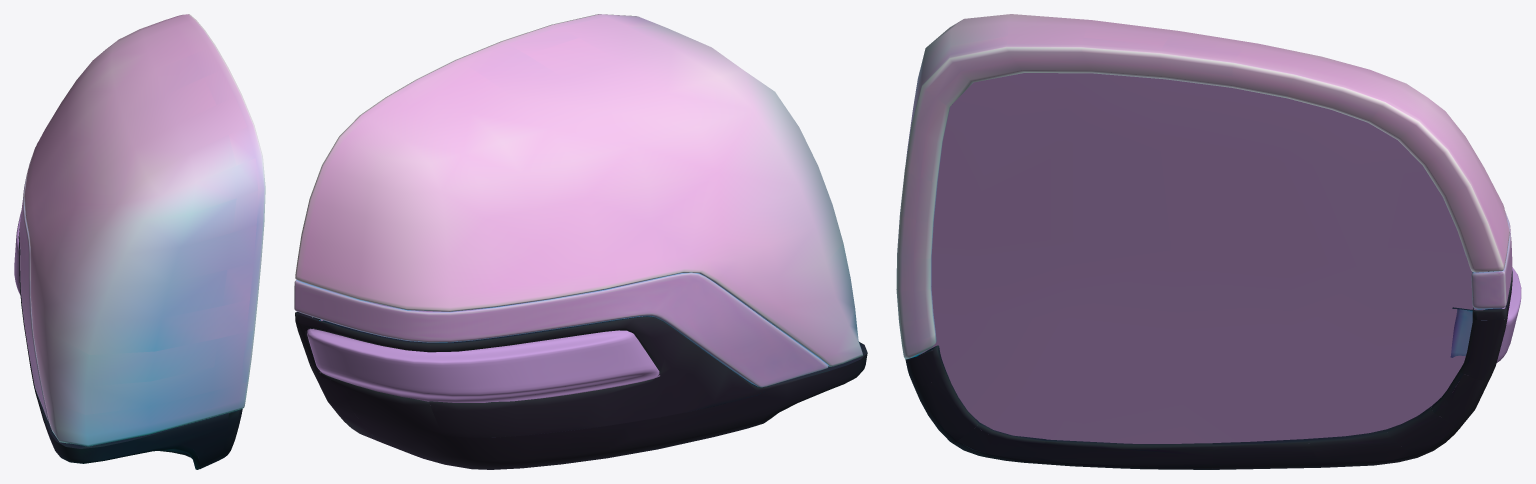
File: mirror_R.glb
The picture shows the model from 3 angles, left to right: view 1: azimuth 30°, elevation 25°; view 2: azimuth 150°, elevation 25°; view 3: azimuth 270°, elevation 25°; orthographic projection. The views are drawn at different scales.
Parts seen in each view (by area): view 1: carpaint_7, black_11, chrome_4, clearglass_27; view 2: carpaint_7, black_11, chrome_4, clearglass_27; view 3: mirror_23, carpaint_7, black_11, chrome_4, clearglass_27.
Part boxes in pixels (x1,y1,x2,y2): carpaint_7: [24, 14, 265, 446]; black_11: [18, 229, 242, 469]; chrome_4: [19, 143, 49, 422]; clearglass_27: [14, 210, 21, 295]; carpaint_7: [295, 14, 862, 366]; black_11: [295, 312, 867, 469]; chrome_4: [294, 272, 828, 387]; clearglass_27: [307, 328, 660, 402]; mirror_23: [919, 73, 1485, 443]; carpaint_7: [896, 14, 1509, 359]; black_11: [905, 270, 1512, 469]; chrome_4: [1450, 211, 1512, 357]; clearglass_27: [1496, 267, 1521, 362].
Bounding box in the file's own units: 0.1989 × 0.2084 × 0.2601.
